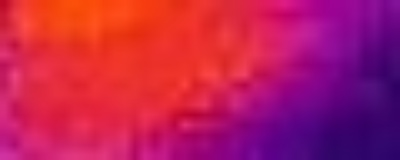Shadow: (275, 1, 400, 160)
